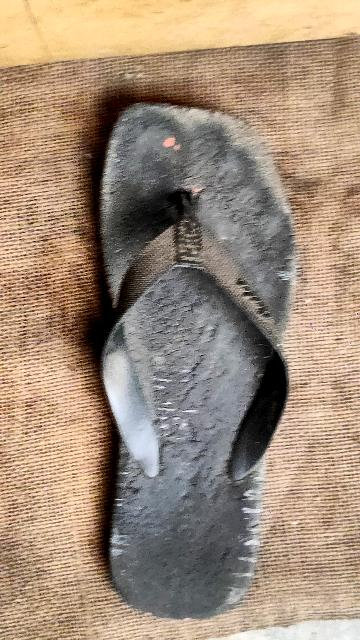sandal: (68, 62, 310, 635)
